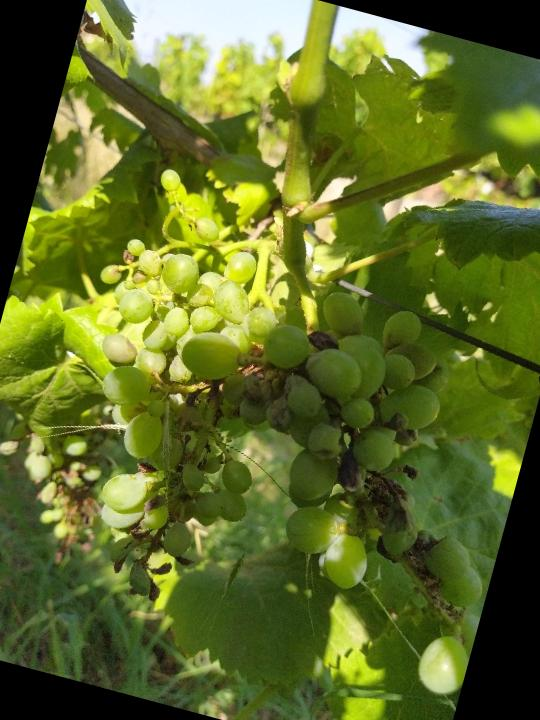grape: (34, 209, 540, 702)
